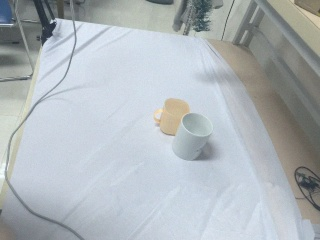cup: (171, 112, 215, 162), (152, 97, 191, 137)
